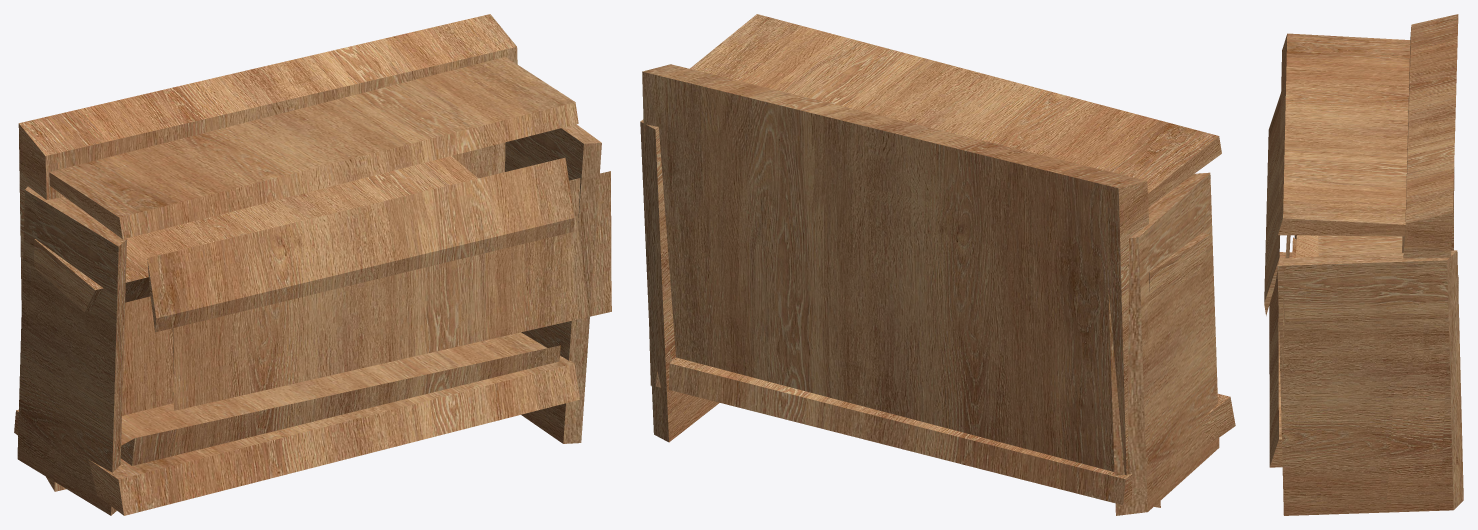
File: 49088_ours.glb
3 renders of one model, left to right at view 1: azimuth 30°, elevation 25°; view 2: azimuth 150°, elevation 25°; view 3: azimuth 270°, elevation 25°, orthographic. The views are drawn at different scales.
Parts seen in each view (by area): view 1: ParentEmpty; view 2: ParentEmpty; view 3: ParentEmpty.
Boxes of the visible parts, box(x1,y1,x2,y2) form: ParentEmpty: box(14, 14, 611, 515); ParentEmpty: box(640, 14, 1235, 515); ParentEmpty: box(1264, 14, 1463, 515).
Size of the model in its own units: 1 by 0.677 by 0.3973.
1 material, 1 textured.
